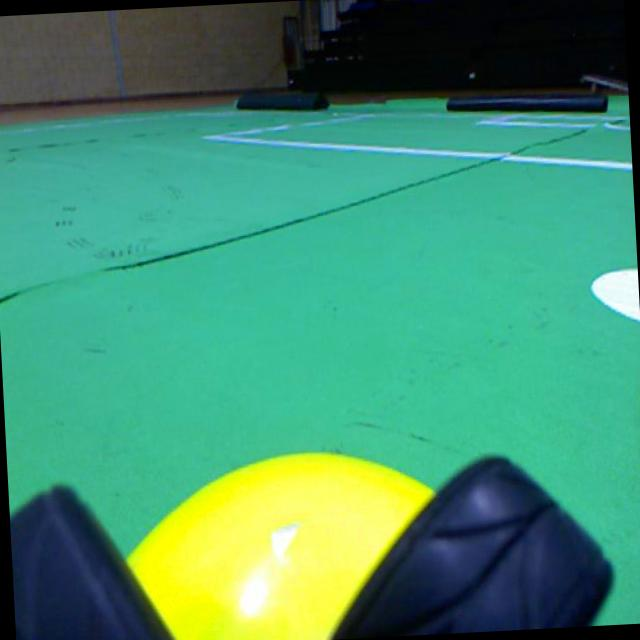ball: (127, 453, 433, 640)
